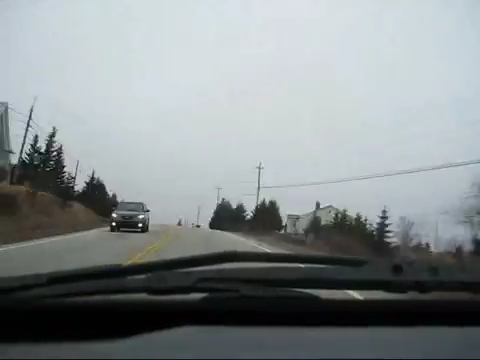car: (110, 201, 150, 231)
